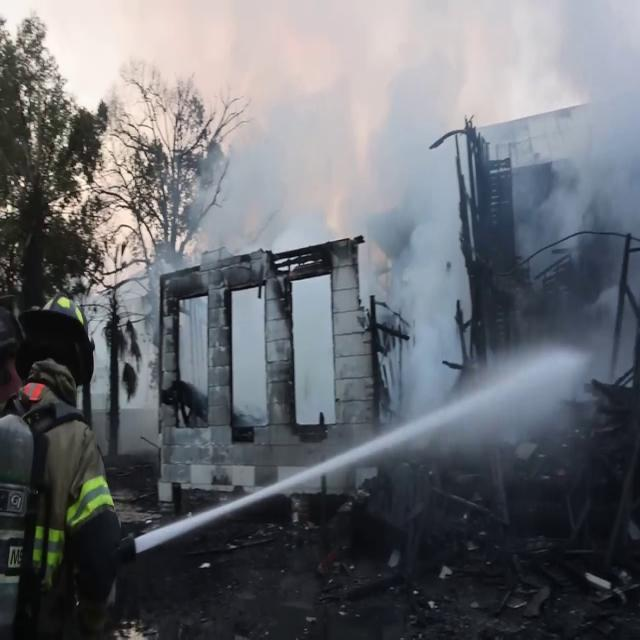Smoke: (177, 180, 594, 480)
